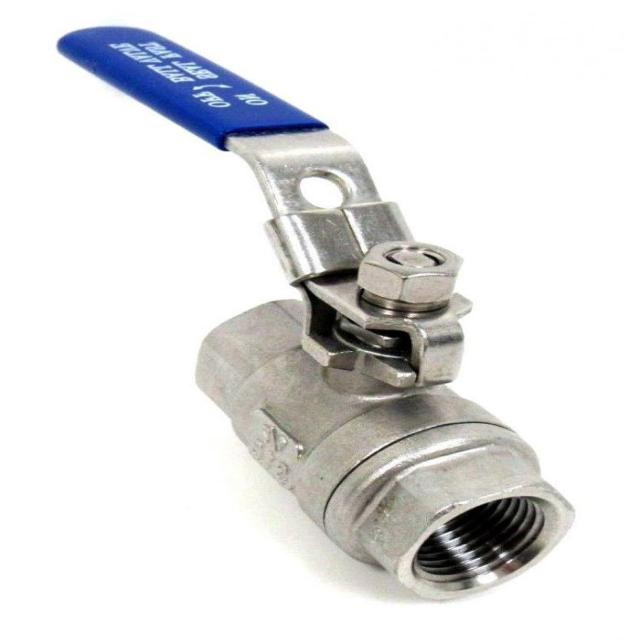opened_valve: (57, 19, 580, 600)
